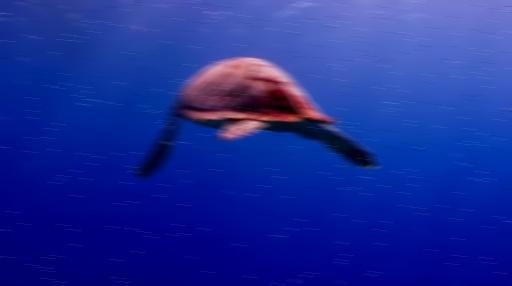Fish: (136, 59, 375, 177)
